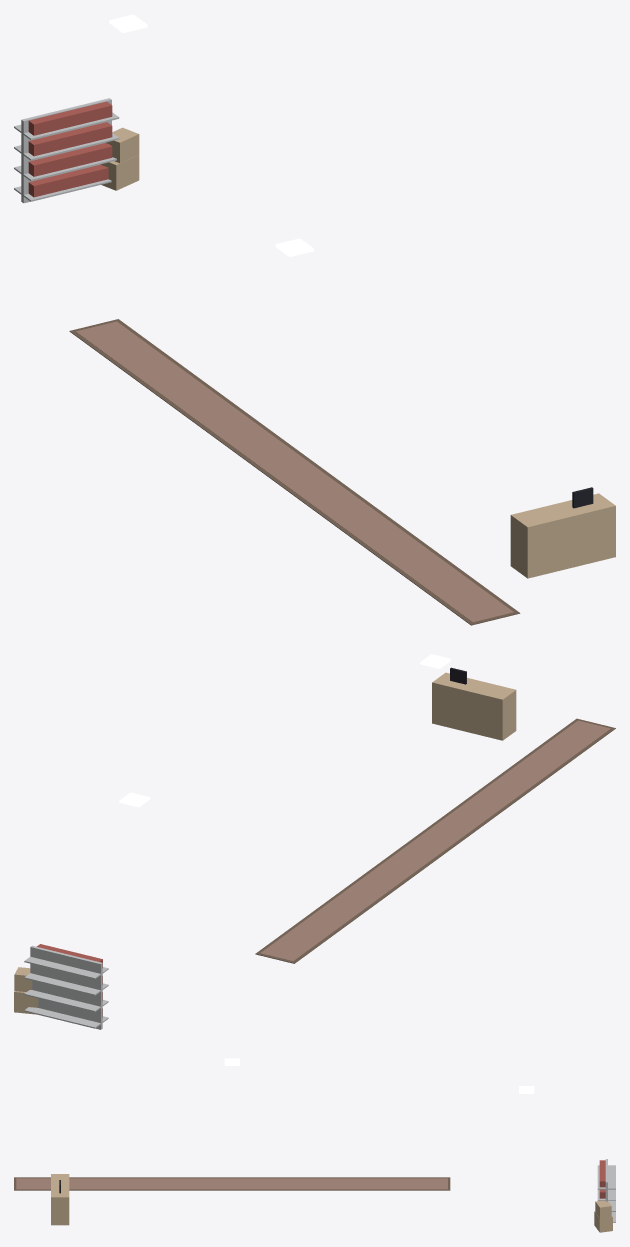
The model's file is fine-s0.glb.
3 views of the same model, one above another, from view 1: azimuth 30°, elevation 25°; view 2: azimuth 150°, elevation 25°; view 3: azimuth 270°, elevation 25° (orthographic). The views are drawn at different scales.
Parts seen in each view (by area): view 1: soft-s0, shelving.000, shop-counter.000, cardboard-box.000; view 2: soft-s0, shelving.000, shop-counter.000, cardboard-box.000; view 3: soft-s0, shop-counter.000, shelving.000, cardboard-box.000.
Boxes of the visible parts, box(x1,y1,x2,y2) form: soft-s0: box(69, 319, 520, 625); shelving.000: box(14, 98, 119, 203); shop-counter.000: box(510, 487, 615, 578); cardboard-box.000: box(101, 127, 139, 190); soft-s0: box(255, 718, 615, 963); shelving.000: box(24, 944, 108, 1029); shop-counter.000: box(432, 667, 516, 740); cardboard-box.000: box(14, 967, 38, 1014); soft-s0: box(14, 1177, 450, 1190); shop-counter.000: box(51, 1174, 69, 1225); shelving.000: box(597, 1159, 615, 1222); cardboard-box.000: box(594, 1200, 612, 1232).
Size of the model in its own units: 4.23 by 4.4 by 19.57.
